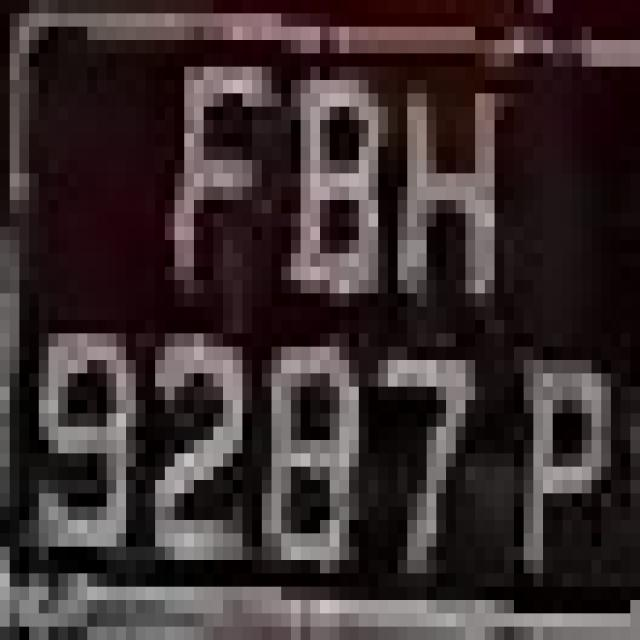2: (126, 334, 252, 614)
7: (358, 307, 494, 573)
8: (232, 346, 368, 586)
9: (19, 307, 136, 573)
B: (262, 53, 388, 320)
F: (146, 53, 282, 307)
H: (388, 27, 524, 293)
P: (484, 347, 620, 600)
